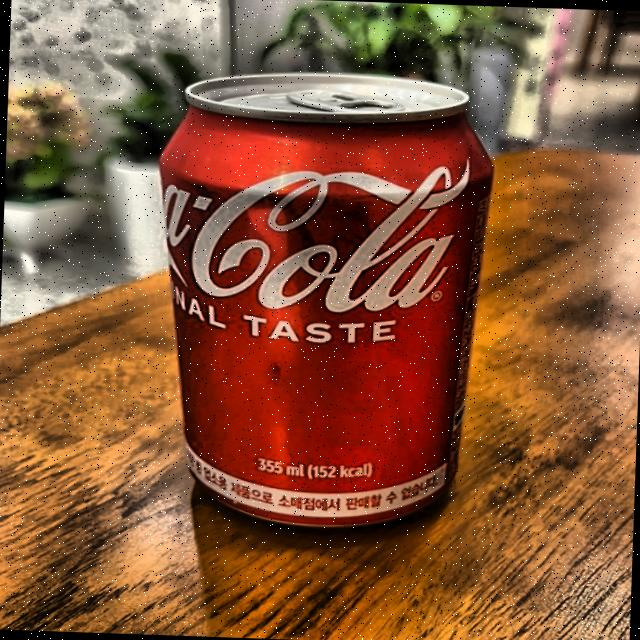cocacola: (151, 58, 501, 538)
